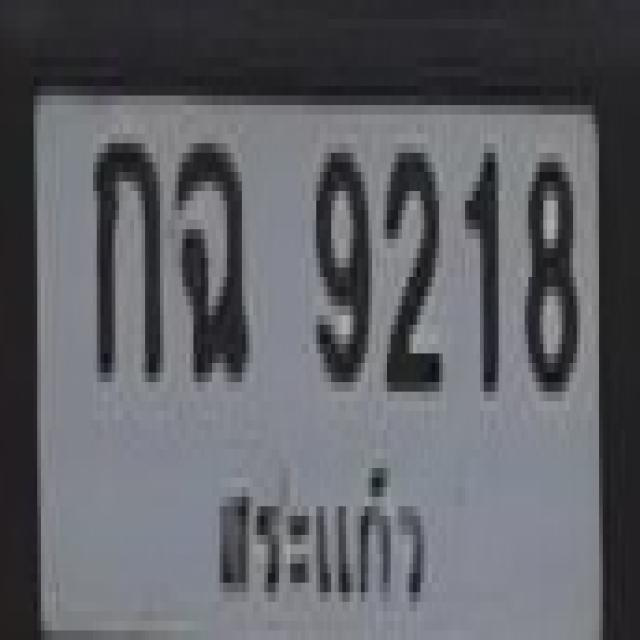1: (461, 143, 495, 382)
2: (382, 143, 438, 382)
8: (521, 143, 573, 382)
9: (312, 143, 364, 373)
A01: (89, 134, 160, 372)
A09: (175, 134, 245, 372)
SKW: (202, 452, 435, 618)
